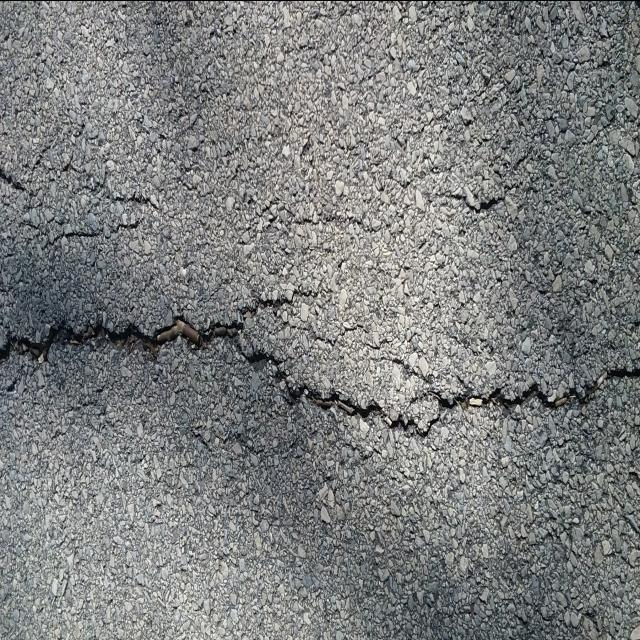Crack: (0, 285, 640, 440)
